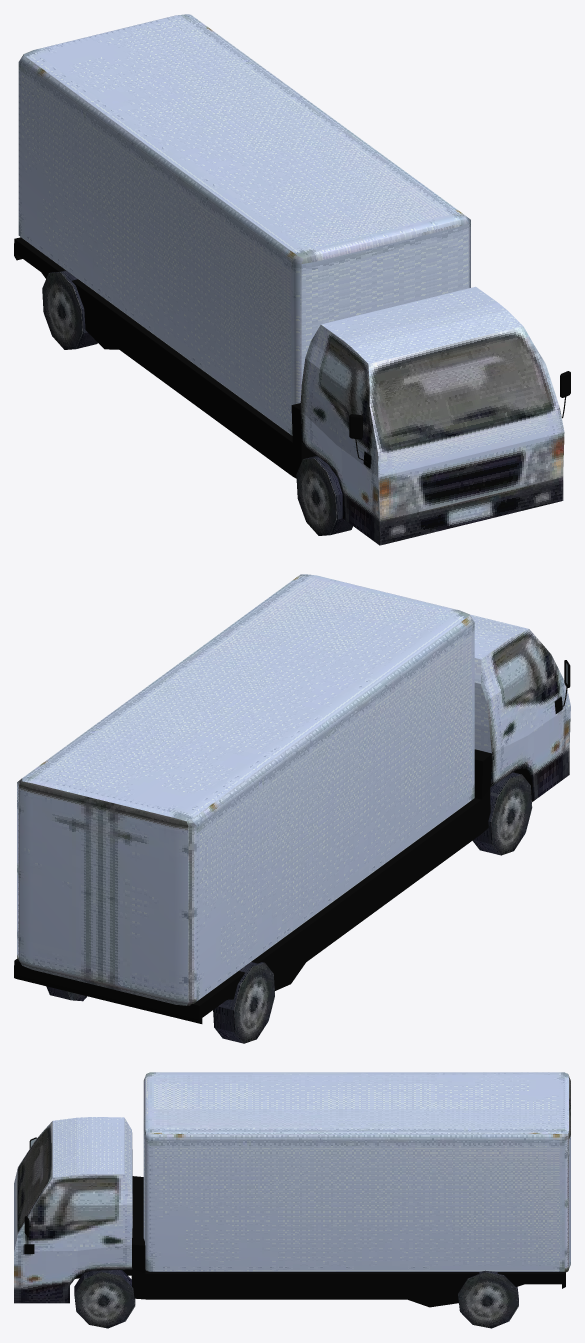
Rendered from psx_-_truck.glb.
3 views of the same model, one above another, from view 1: azimuth 30°, elevation 25°; view 2: azimuth 150°, elevation 25°; view 3: azimuth 270°, elevation 25° (orthographic). The views are drawn at different scales.
Visible parts, largest first — view 1: pCube15_lambert3_0, pCube15_lambert4_0; view 2: pCube15_lambert3_0, pCube15_lambert4_0; view 3: pCube15_lambert3_0, pCube15_lambert4_0.
Boxes of the visible parts, box(x1,y1,x2,y2) form: pCube15_lambert3_0: box(18, 14, 564, 545); pCube15_lambert4_0: box(14, 237, 570, 478); pCube15_lambert3_0: box(17, 574, 570, 1043); pCube15_lambert4_0: box(14, 660, 570, 1023); pCube15_lambert3_0: box(14, 1072, 570, 1328); pCube15_lambert4_0: box(24, 1137, 565, 1307).
Bounding box in the file's own units: 0.0305 × 0.0345 × 0.0903.
Materials: 2 (1 with a texture image).
